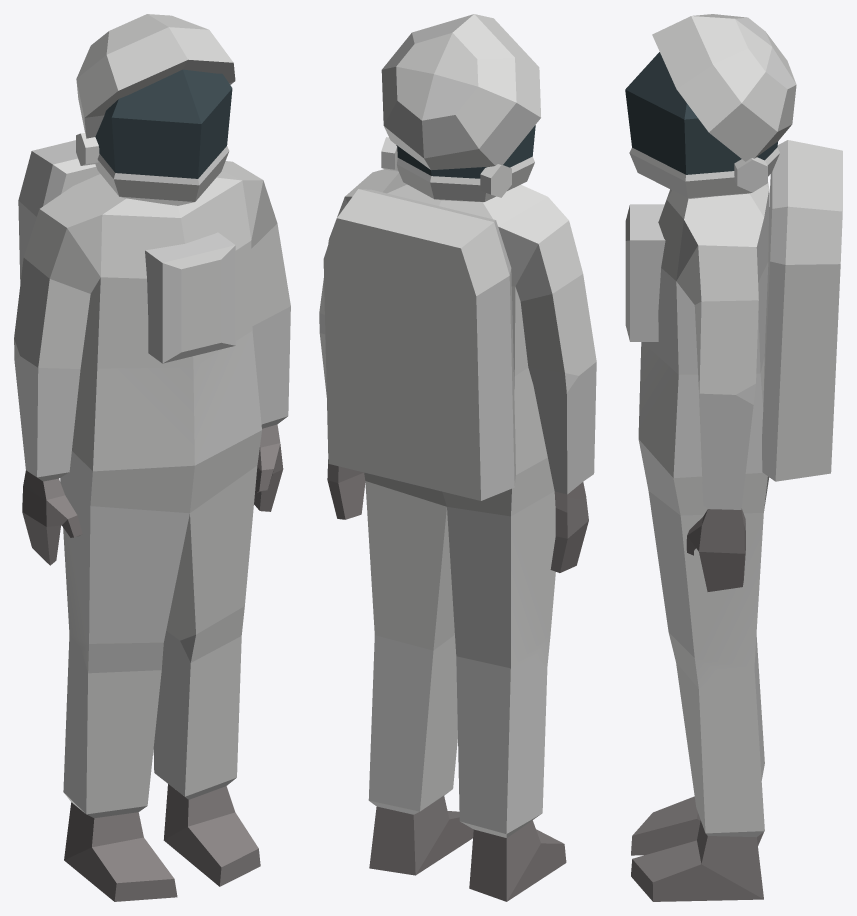
File: man-astronaut.fbx
The picture shows the model from 3 angles, left to right: view 1: azimuth 30°, elevation 25°; view 2: azimuth 150°, elevation 25°; view 3: azimuth 270°, elevation 25°; orthographic projection.
Visible parts, largest first — view 1: man_astronaut; view 2: man_astronaut; view 3: man_astronaut.
Part boxes in pixels (x1,y1,x2,y2): man_astronaut: (14, 14, 290, 901); man_astronaut: (319, 14, 596, 901); man_astronaut: (625, 14, 842, 901).
Bounding box in the file's own units: 58.28 × 186 × 43.06.
